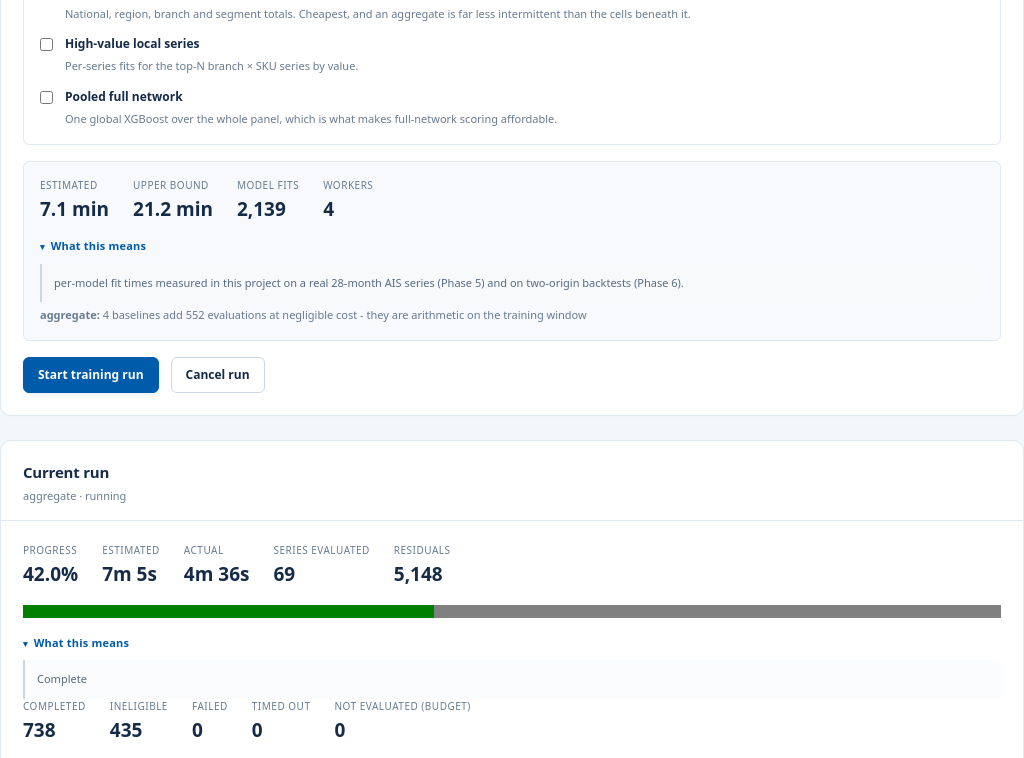
Scenario: TrainingCenterPage › offers cancellation for a running run
(page scrolled)
Click the button "Cancel run" at (218, 375), box x1=170 y1=357 x2=264 y2=393
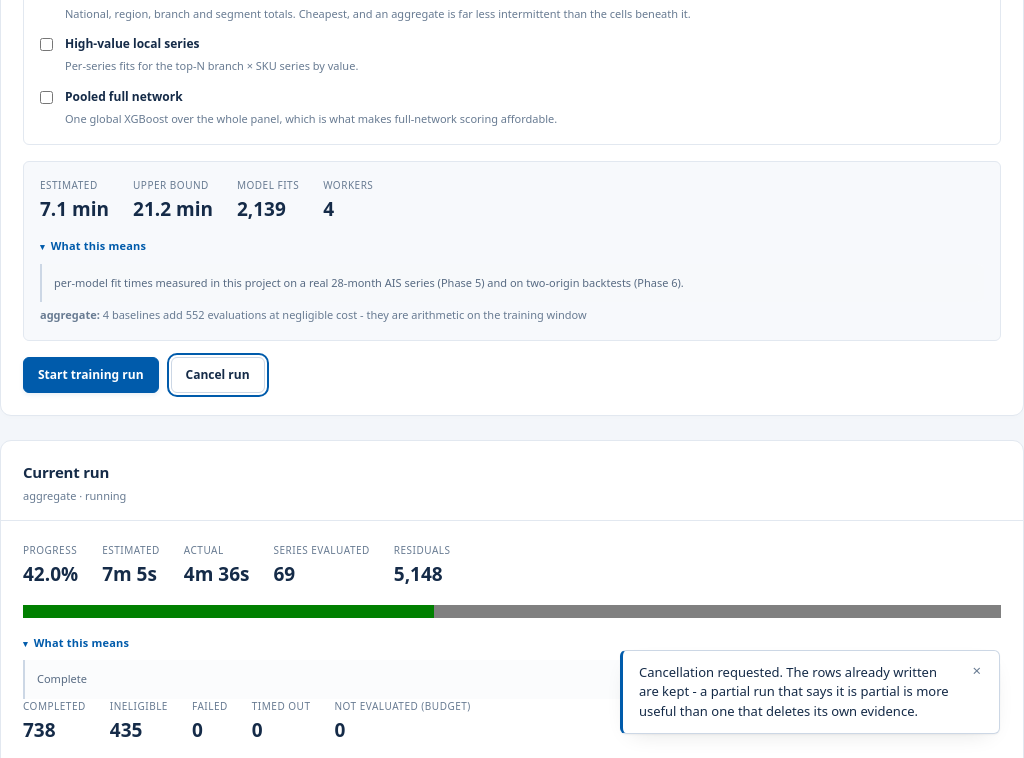
expect the text "rows already written are kept" is shown: met, box x1=639 y1=662 x2=949 y2=720
